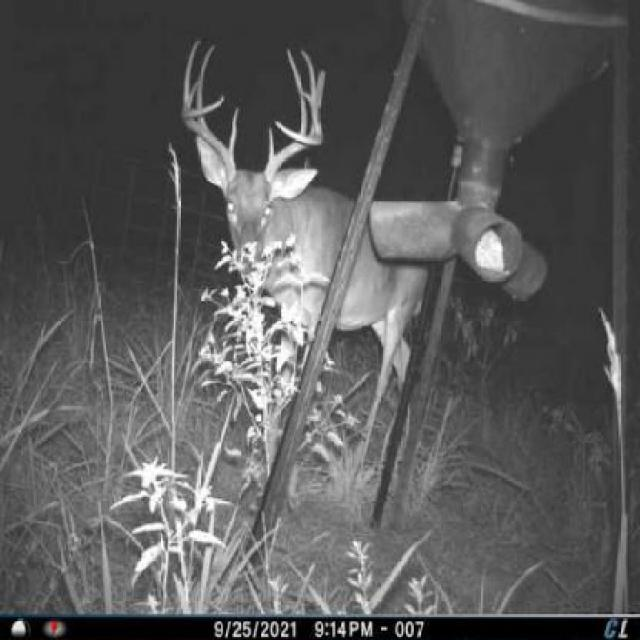Deer: (174, 27, 446, 507)
